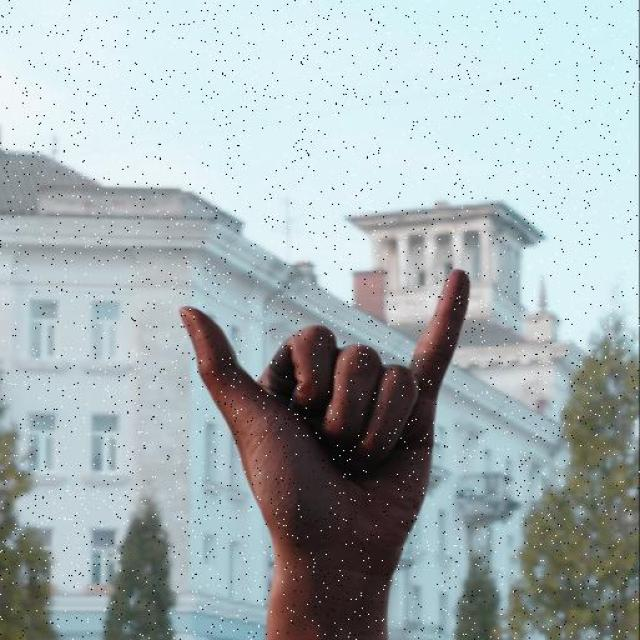Y: (175, 245, 499, 607)
